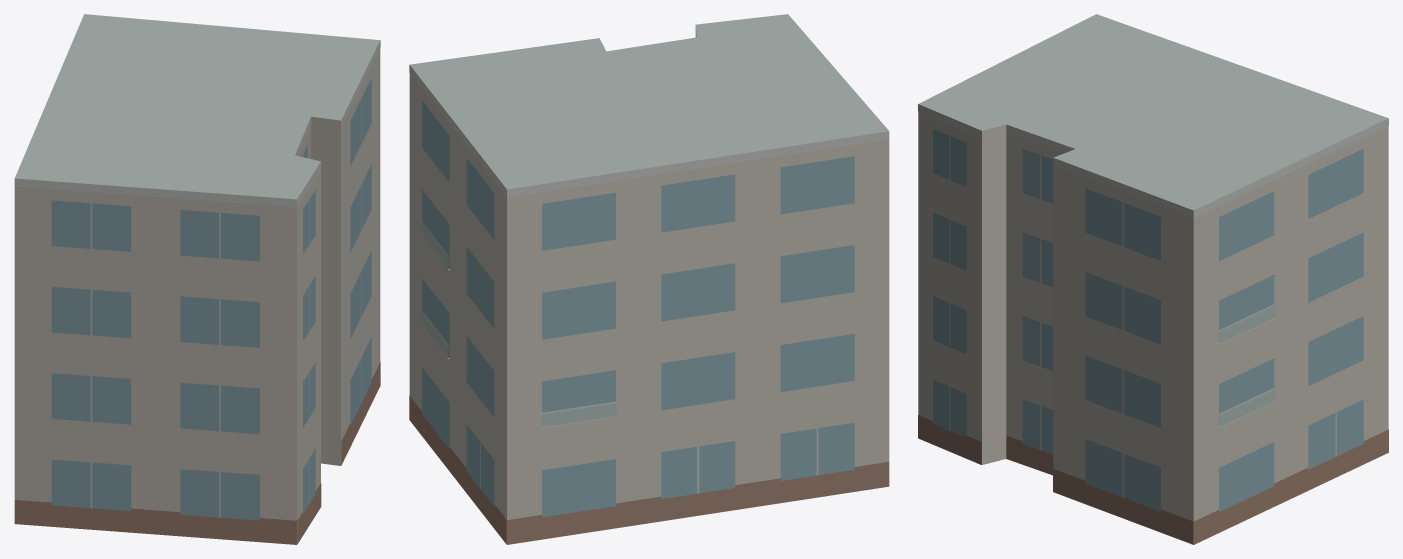
The model's file is survey-upis-32609575.glb.
3 views of the same model, side by side, from view 1: azimuth 30°, elevation 25°; view 2: azimuth 150°, elevation 25°; view 3: azimuth 270°, elevation 25° (orthographic). The views are drawn at different scales.
Parts seen in each view (by area): view 1: survey-upis-32609575.tmp; view 2: survey-upis-32609575.tmp; view 3: survey-upis-32609575.tmp.
Part boxes in pixels (x1=…): survey-upis-32609575.tmp: x1=14, y1=14, x2=380, y2=544; survey-upis-32609575.tmp: x1=409, y1=14, x2=889, y2=544; survey-upis-32609575.tmp: x1=918, y1=14, x2=1388, y2=544.
Bounding box in the file's own units: 13.24 × 10.5 × 13.4.
